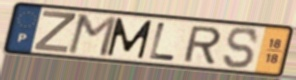L: (147, 21, 179, 62)
M: (65, 12, 119, 59), (105, 16, 155, 60)
R: (181, 25, 223, 65)
S: (222, 26, 261, 70)
Z: (32, 9, 79, 55)
